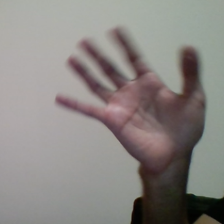left: (50, 10, 216, 170)
